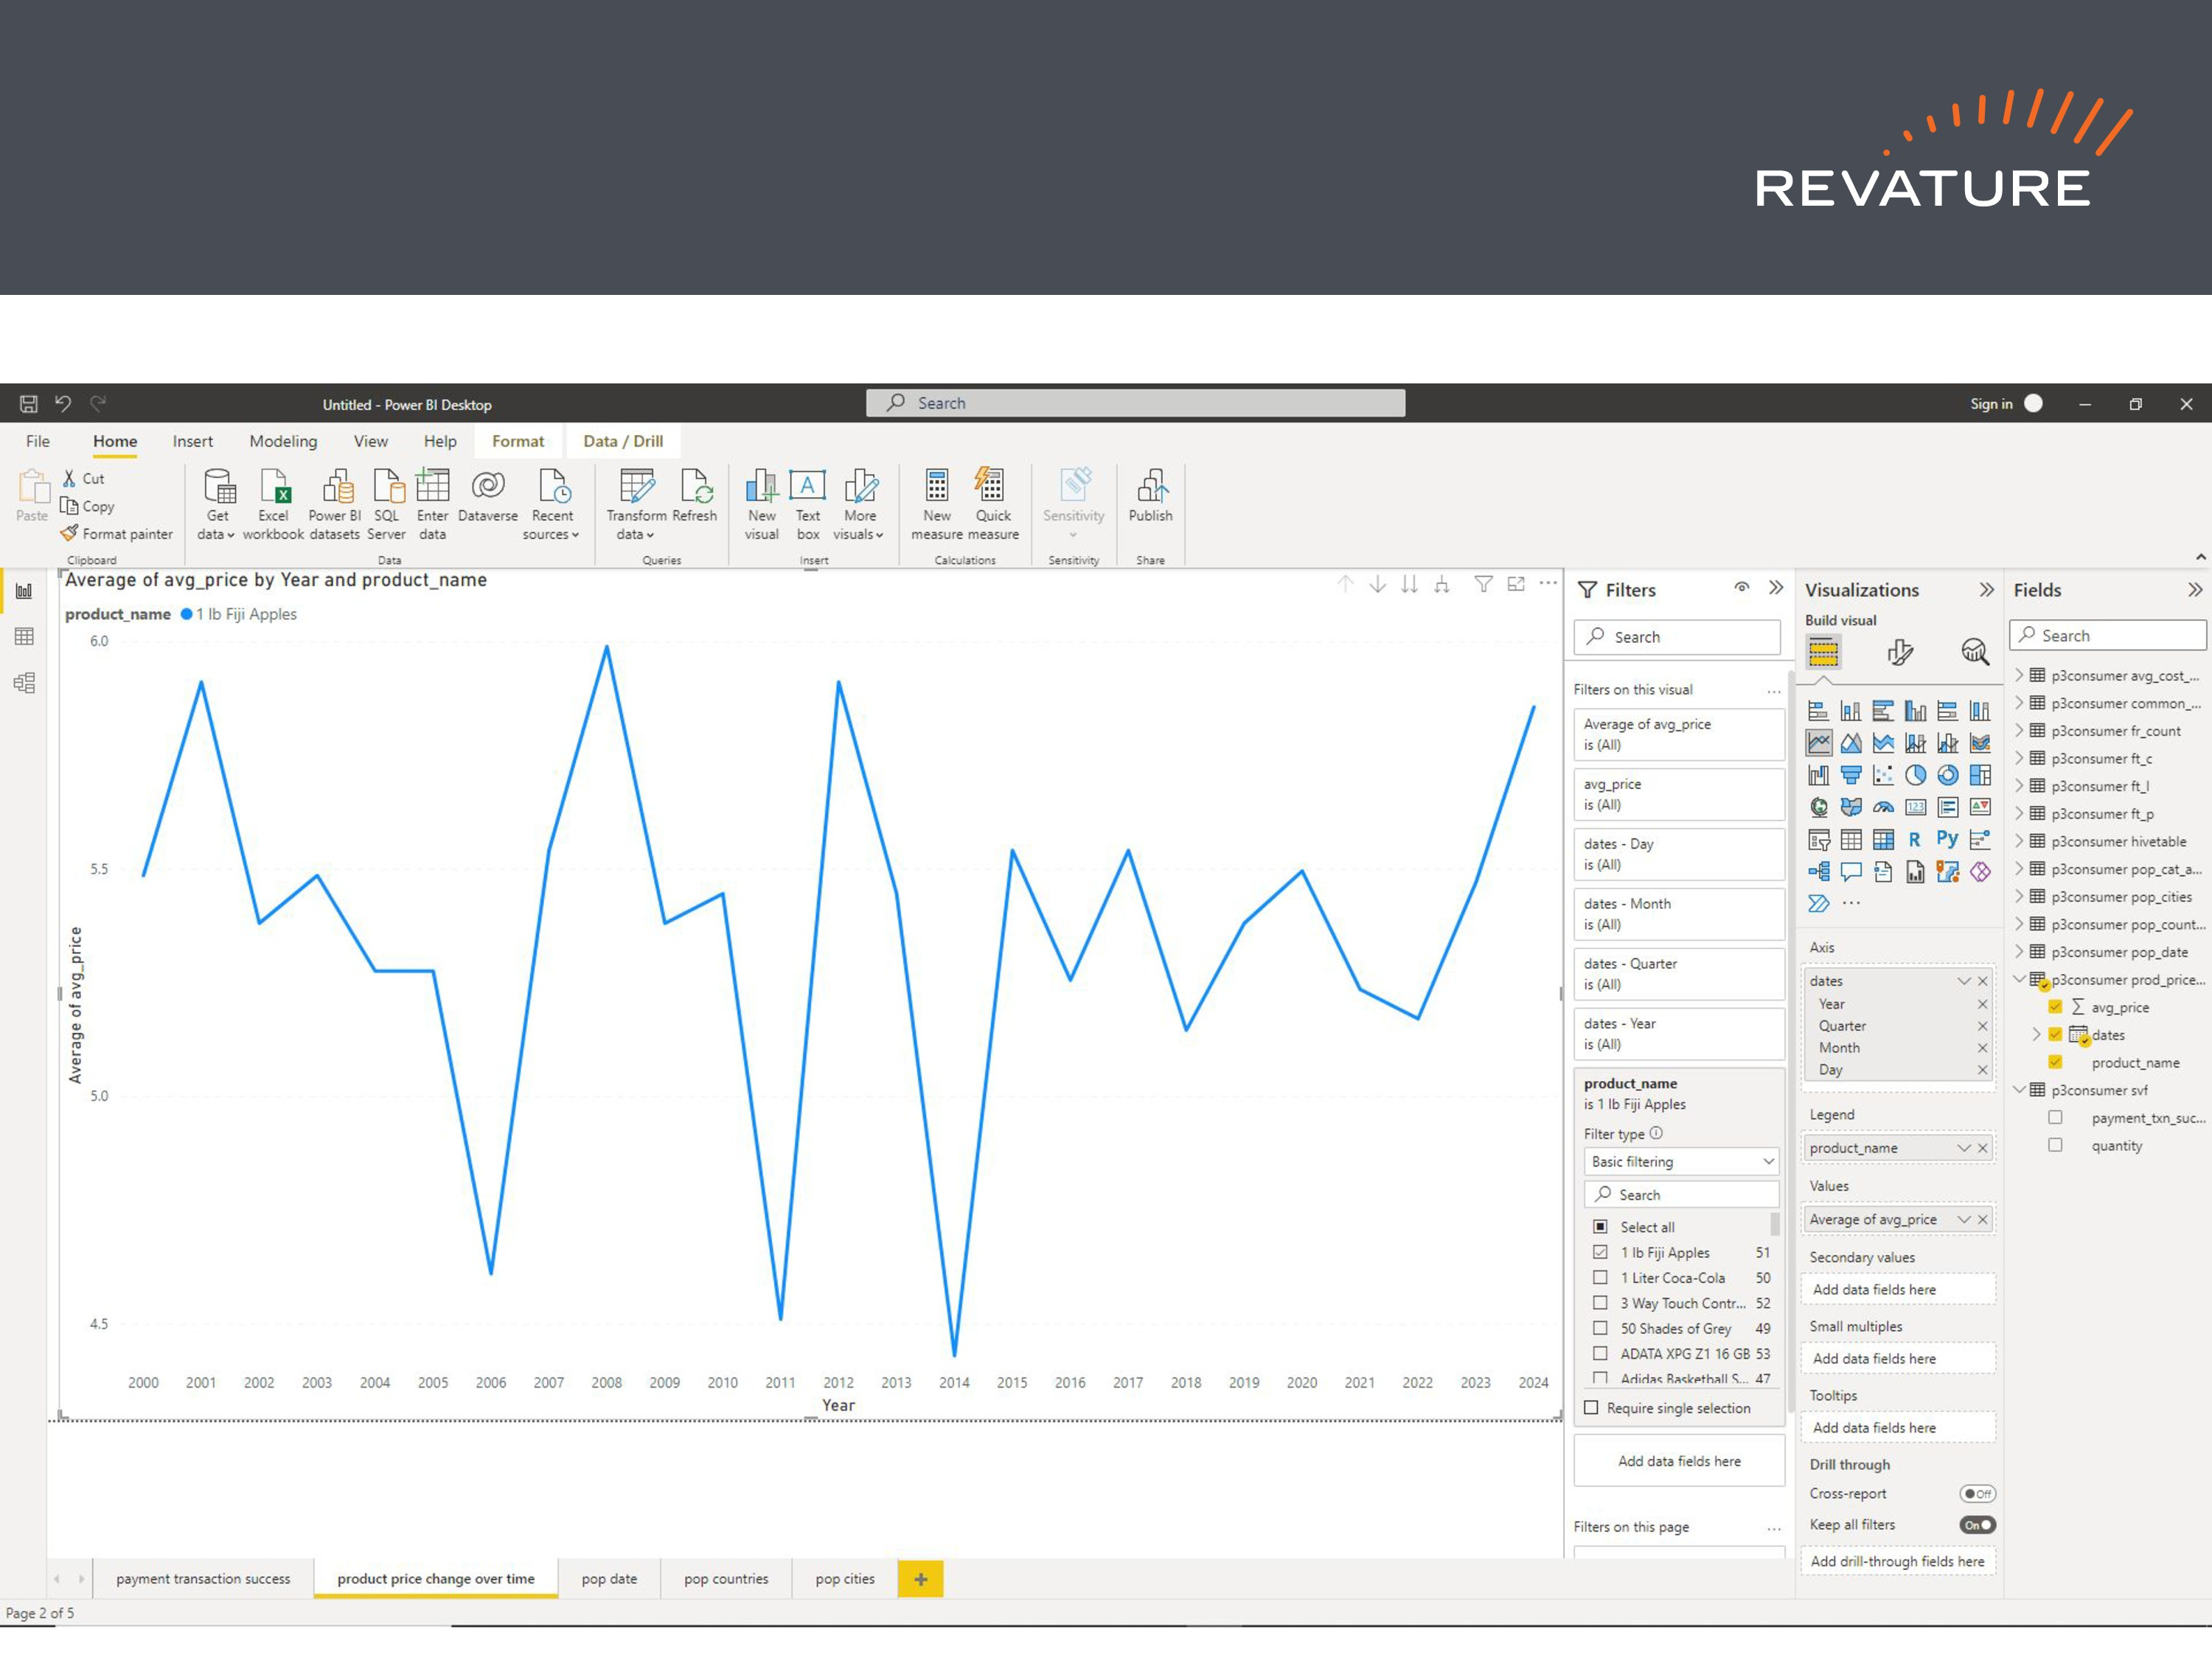

What the dashboard file says about the page in this screenshot:
{"tool":"powerbi","page":{"name":"prod_price_change","canvas":[1280,720],"ordinal":10},"visuals":[{"type":"barChart","title":"Change in Price by Date per Product","fields":{"Y":["Sum(proj3 prod_price_change.avg_price)"],"Rows":["proj3 prod_price_change.product_name"],"Category":["proj3 prod_price_change.dates.Variation.Date Hierarchy.Year","proj3 prod_price_change.dates.Variation.Date Hierarchy.Quarter","proj3 prod_price_change.dates.Variation.Date Hierarchy.Month","proj3 prod_price_change.dates.Variation.Date Hierarchy.Day"]},"box":[10.5,9.4,1269.2,710.6],"z":0}]}

Visuals, with their boxes on the page's 1280x720 design canvas (x1, y1, x2, y2). These are canvas units, not pixel positions in the 2212x1659 screenshot, which may show the page scaled, cropped or inside an application window:
"Change in Price by Date per Product" barChart: (x1=10, y1=9, x2=1280, y2=720)
